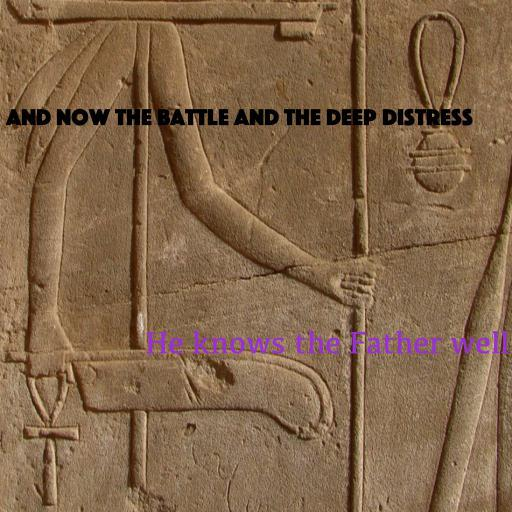Kefa: (145, 331, 509, 354)
Phosphate: (5, 108, 473, 126)
